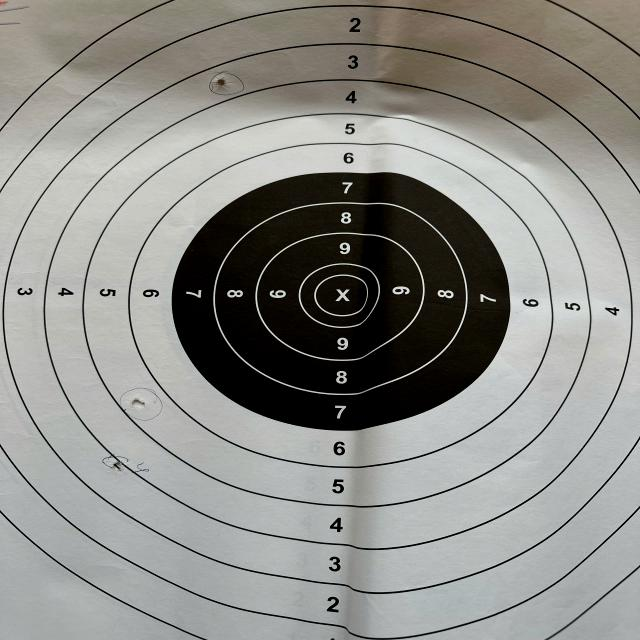bullet: (130, 397, 145, 409), (112, 460, 125, 472), (215, 76, 227, 87)
target: (0, 0, 640, 640)
